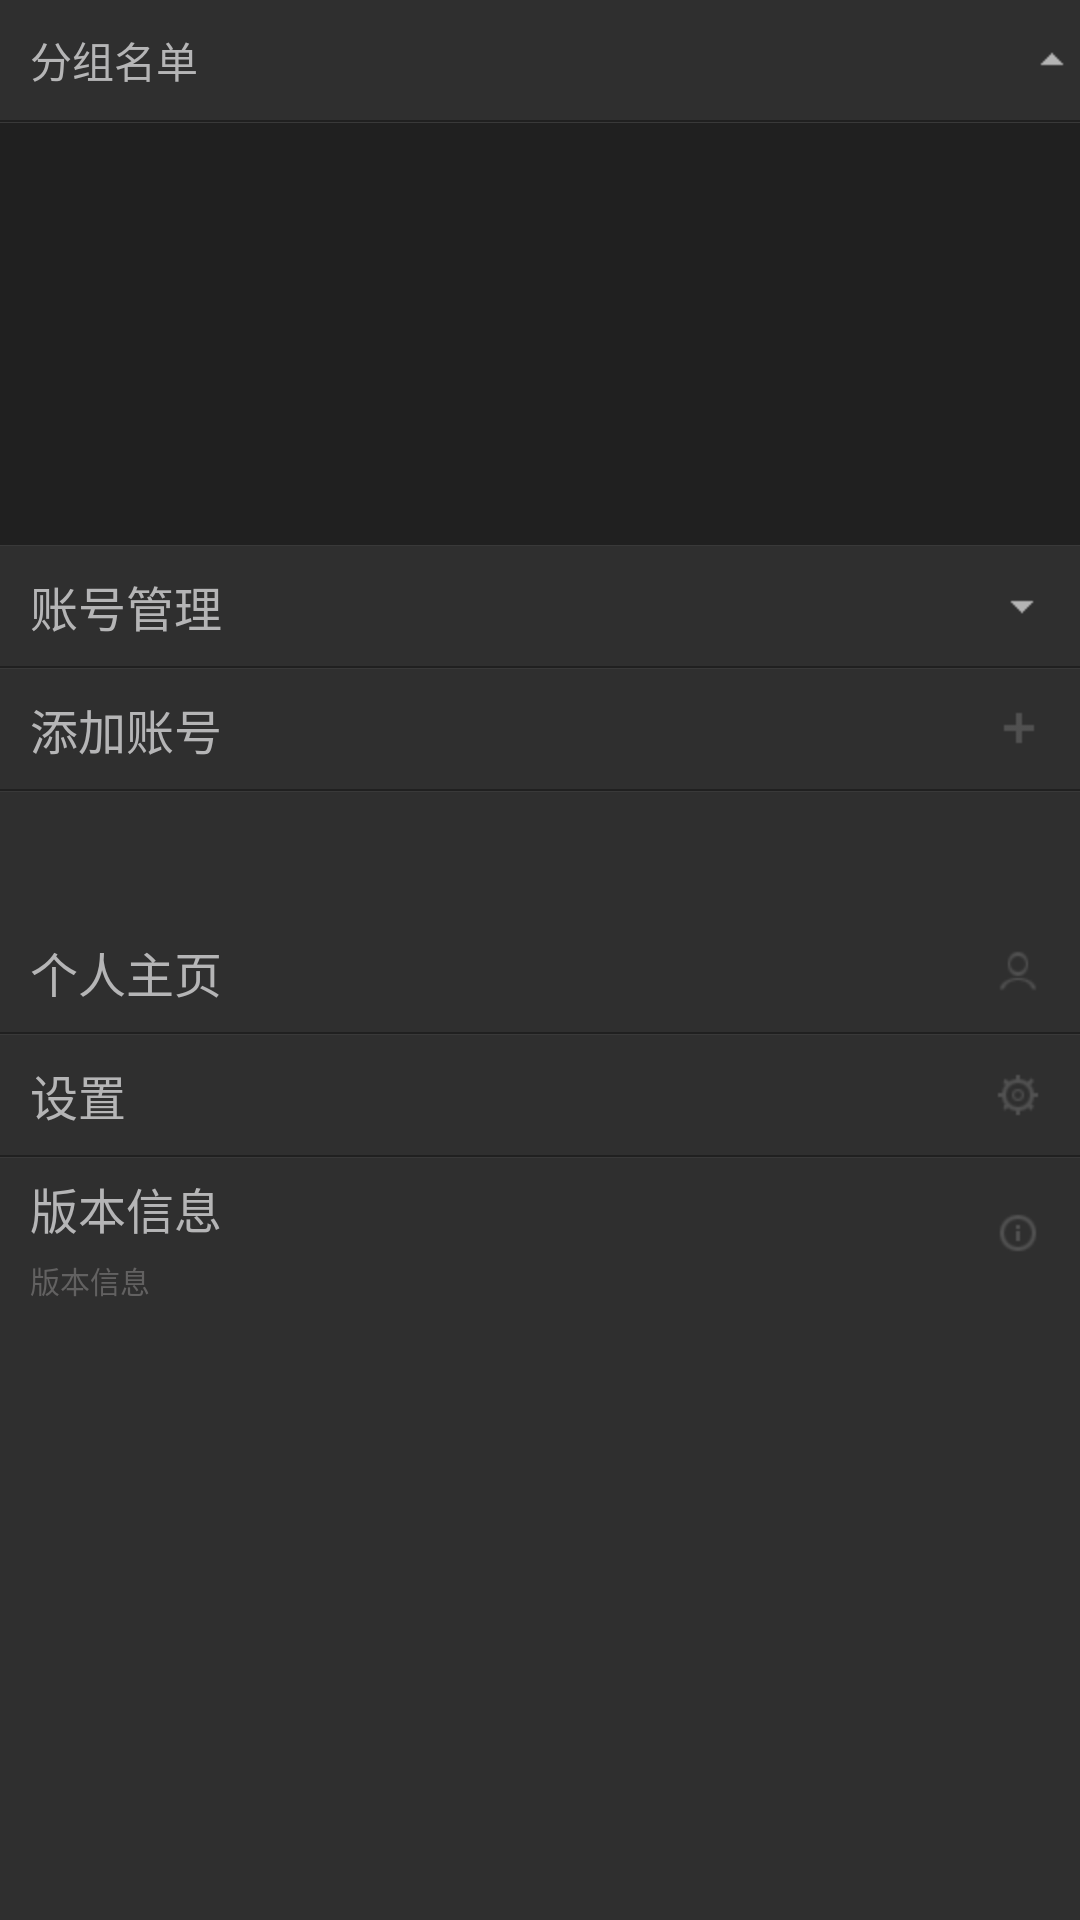

Icons on this 1080×1920 Android screen, each with the point to tap as point (x, y):
accoun: point (1018, 970)
add: point (1019, 728)
info: point (1018, 1233)
set: point (1018, 1095)
shang: point (1052, 59)
xia: point (1022, 607)
